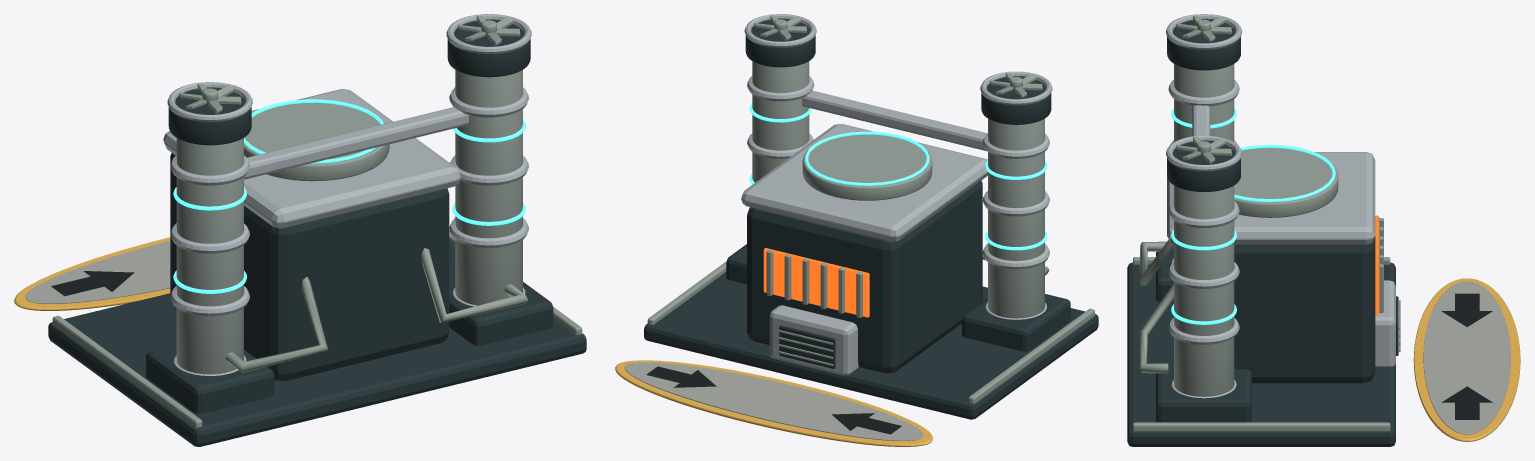
Rendered from battlecity-weapon-factory.glb.
3 renders of one model, left to right at view 1: azimuth 30°, elevation 25°; view 2: azimuth 150°, elevation 25°; view 3: azimuth 270°, elevation 25°, orthographic. The views are drawn at different scales.
Parts seen in each view (by area): view 1: DX dark machinery, Brushed steel, DX chrome, Pale stone apron, Command glow, Command gold, Lettering charcoal, Brushed steel Factory intake turbine 1, Brushed steel Factory intake turbine -1; view 2: DX dark machinery, Brushed steel, DX chrome, Pale stone apron, Command gold, Factory furnace glow, Command glow, Lettering charcoal, Brushed steel Factory intake turbine 1, Brushed steel Factory intake turbine -1; view 3: DX dark machinery, Brushed steel, DX chrome, Pale stone apron, Command gold, Lettering charcoal, Command glow, Brushed steel Factory intake turbine 1, Brushed steel Factory intake turbine -1, Factory furnace glow.
Boxes of the visible parts, x1,y1,x2,y2 form: DX dark machinery: [48, 20, 586, 446]; Brushed steel: [52, 70, 582, 428]; DX chrome: [163, 14, 531, 375]; Pale stone apron: [25, 241, 170, 303]; Command glow: [173, 99, 525, 293]; Command gold: [14, 237, 170, 310]; Lettering charcoal: [51, 271, 134, 296]; Brushed steel Factory intake turbine 1: [458, 15, 520, 45]; Brushed steel Factory intake turbine -1: [179, 83, 241, 113]; DX dark machinery: [644, 19, 1098, 419]; Brushed steel: [647, 61, 1094, 403]; DX chrome: [741, 14, 1052, 375]; Pale stone apron: [624, 362, 923, 440]; Command gold: [615, 360, 932, 446]; Factory furnace glow: [763, 248, 869, 317]; Command glow: [749, 103, 1047, 250]; Lettering charcoal: [646, 366, 901, 434]; Brushed steel Factory intake turbine 1: [754, 15, 806, 40]; Brushed steel Factory intake turbine -1: [990, 73, 1042, 98]; DX dark machinery: [1127, 19, 1398, 446]; Brushed steel: [1133, 64, 1400, 431]; DX chrome: [1166, 14, 1395, 398]; Pale stone apron: [1423, 281, 1510, 434]; Command gold: [1413, 278, 1520, 441]; Lettering charcoal: [1441, 293, 1492, 419]; Command glow: [1171, 108, 1335, 324]; Brushed steel Factory intake turbine 1: [1176, 137, 1231, 163]; Brushed steel Factory intake turbine -1: [1176, 15, 1231, 42]; Factory furnace glow: [1375, 215, 1379, 315].
Bounding box in the file's own units: 2.96 × 2.26 × 2.87.
